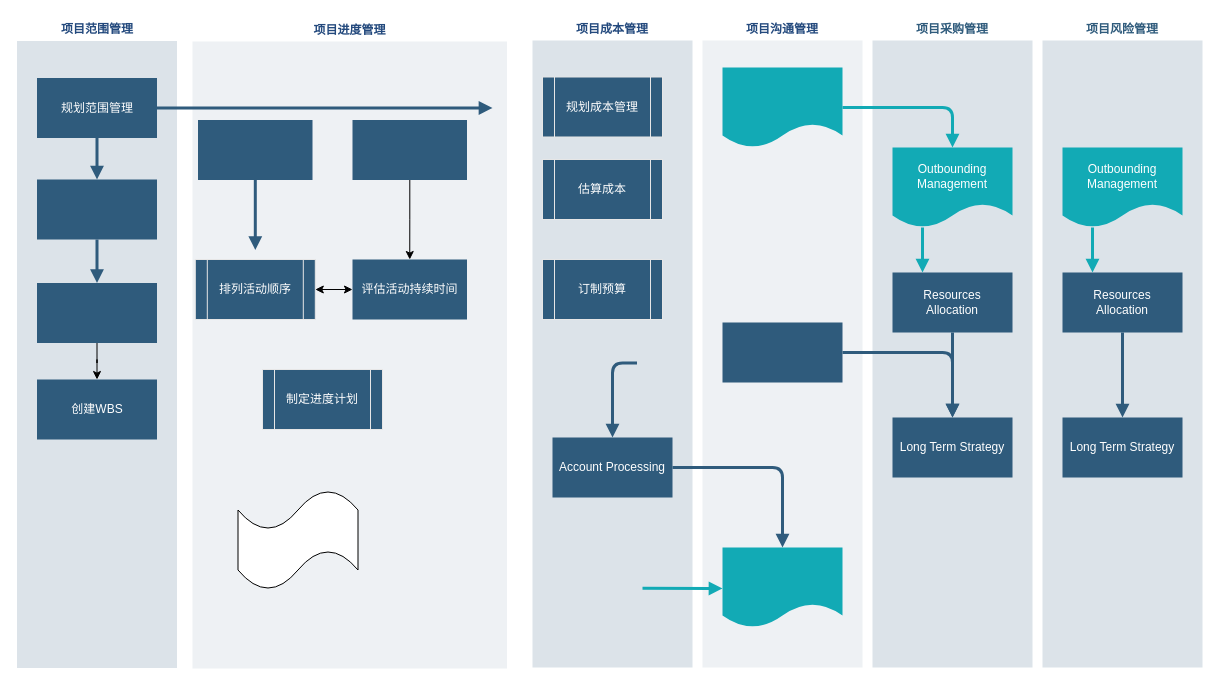
This 1220x685 diagram has some shape labels left out. Each missing label, with the centre of its shape:
"Bills" belongs at point (782, 587).
"Cost Allocation" belongs at point (782, 352).
"Sales Contract" belongs at point (782, 107).
"定义活动" belongs at point (409, 150).
"定义范围" belongs at point (96, 312).
"收集需求：" belongs at point (96, 209).
"规划进度管理" belongs at point (255, 150).
